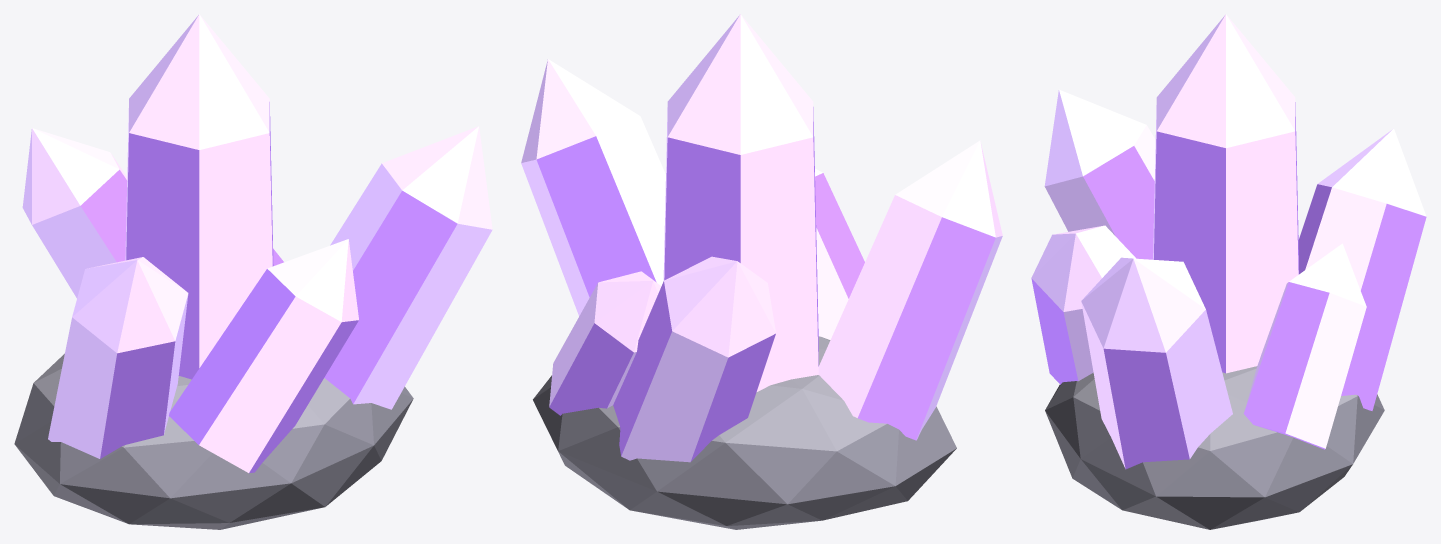
Rendered from cristal-roxo.glb.
The picture shows the model from 3 angles, left to right: view 1: azimuth 30°, elevation 25°; view 2: azimuth 150°, elevation 25°; view 3: azimuth 270°, elevation 25°; orthographic projection. The views are drawn at different scales.
Visible parts, largest first — view 1: cristal-roxo; view 2: cristal-roxo; view 3: cristal-roxo.
Boxes of the visible parts, x1,y1,x2,y2 form: cristal-roxo: (14,14,492,529); cristal-roxo: (521,14,1002,529); cristal-roxo: (1031,14,1426,529).
Size of the model in its own units: 0.1235 by 0.133 by 0.0999.
